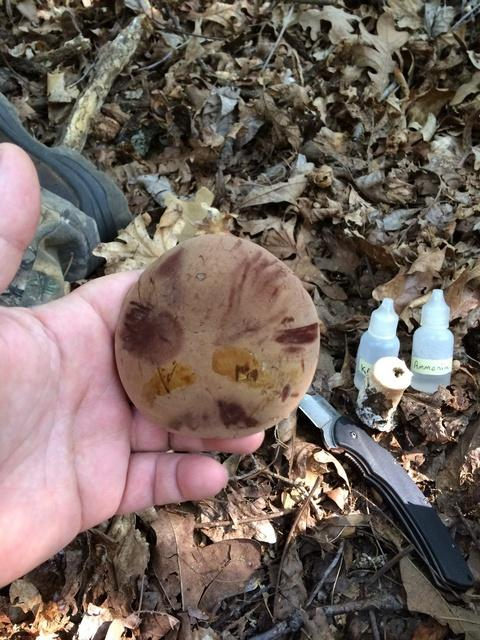Non-edible Mushroom: (112, 231, 321, 440)
